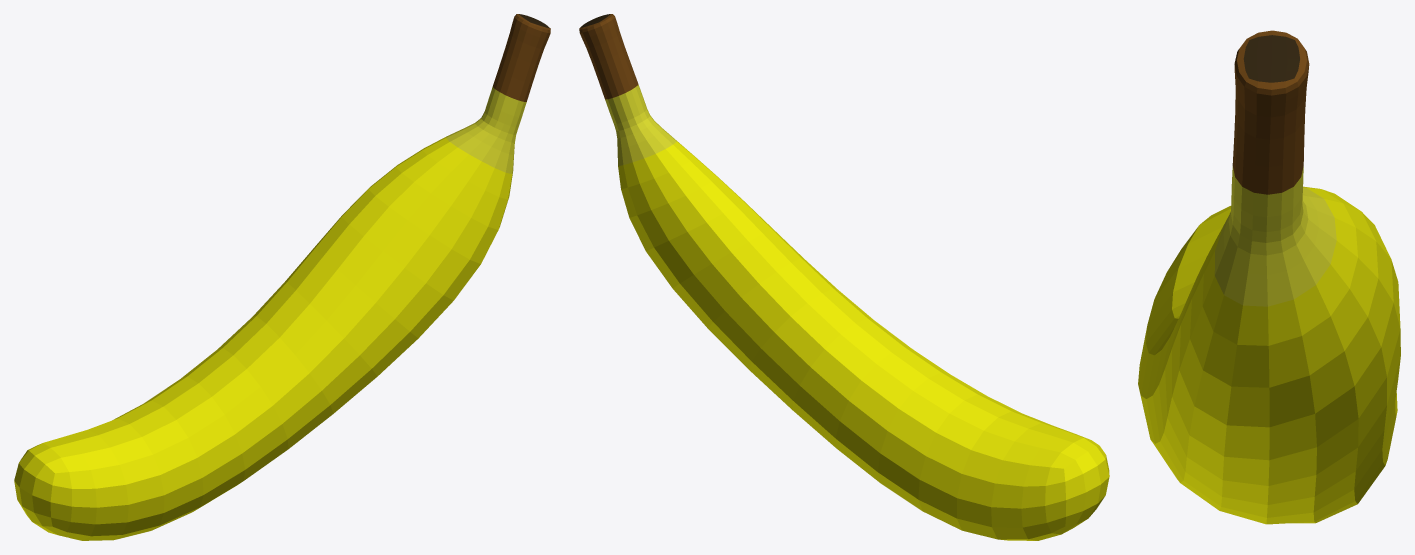
Rendered from Banana.fbx.
3 views of the same model, side by side, from view 1: azimuth 30°, elevation 25°; view 2: azimuth 150°, elevation 25°; view 3: azimuth 270°, elevation 25° (orthographic). The views are drawn at different scales.
Parts seen in each view (by area): view 1: Banana; view 2: Banana; view 3: Banana.
Part boxes in pixels (x1,y1,x2,y2): Banana: (14,14,550,540); Banana: (579,14,1109,540); Banana: (1138,30,1400,524).
Size of the model in its own units: 1176 by 894 by 257.
